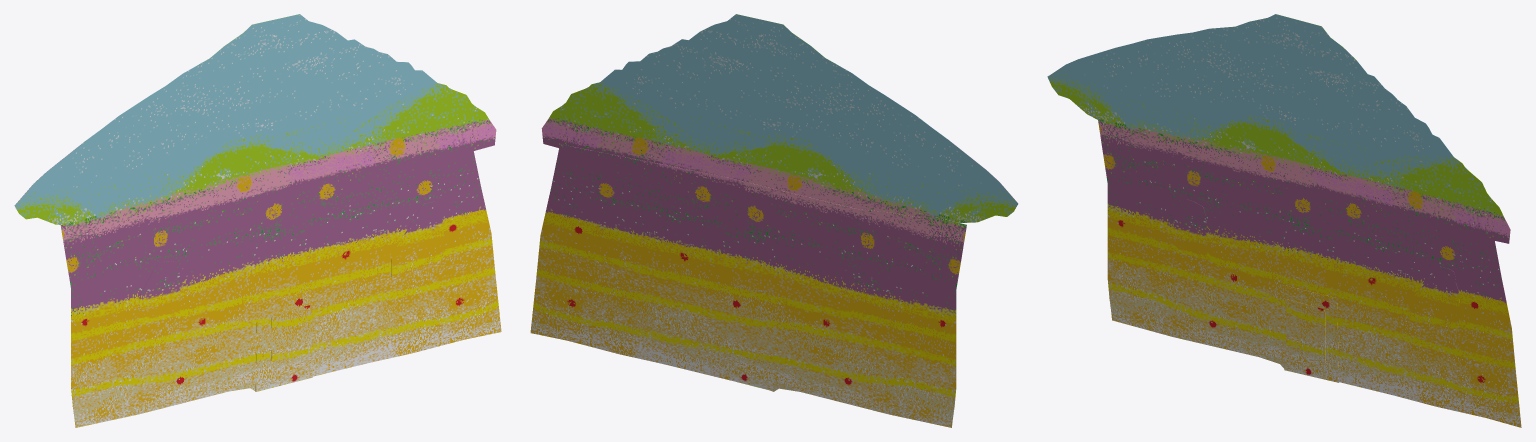
The model's file is village.fbx_village_house_3.fbx.
3 views of the same model, side by side, from view 1: azimuth 30°, elevation 25°; view 2: azimuth 150°, elevation 25°; view 3: azimuth 330°, elevation 25° (orthographic). The views are drawn at different scales.
Parts seen in each view (by area): view 1: house.004, roof.004, windows.001, door.004, door outline; view 2: house.004, roof.004; view 3: house.004, roof.004, windows.001, door.004, door outline.
Boxes of the visible parts, <box> form: house.004: <box>60,151,501,427</box>; roof.004: <box>14,14,496,225</box>; windows.001: <box>139,201,443,318</box>; door.004: <box>270,305,312,384</box>; door outline: <box>255,290,312,391</box>; house.004: <box>530,144,966,427</box>; roof.004: <box>541,14,1018,222</box>; house.004: <box>1098,120,1521,427</box>; roof.004: <box>1047,14,1510,243</box>; windows.001: <box>1166,199,1459,333</box>; door.004: <box>1285,299,1325,378</box>; door outline: <box>1284,285,1338,382</box>.
Bounding box in the file's own units: 2545 × 1842 × 66.71.
